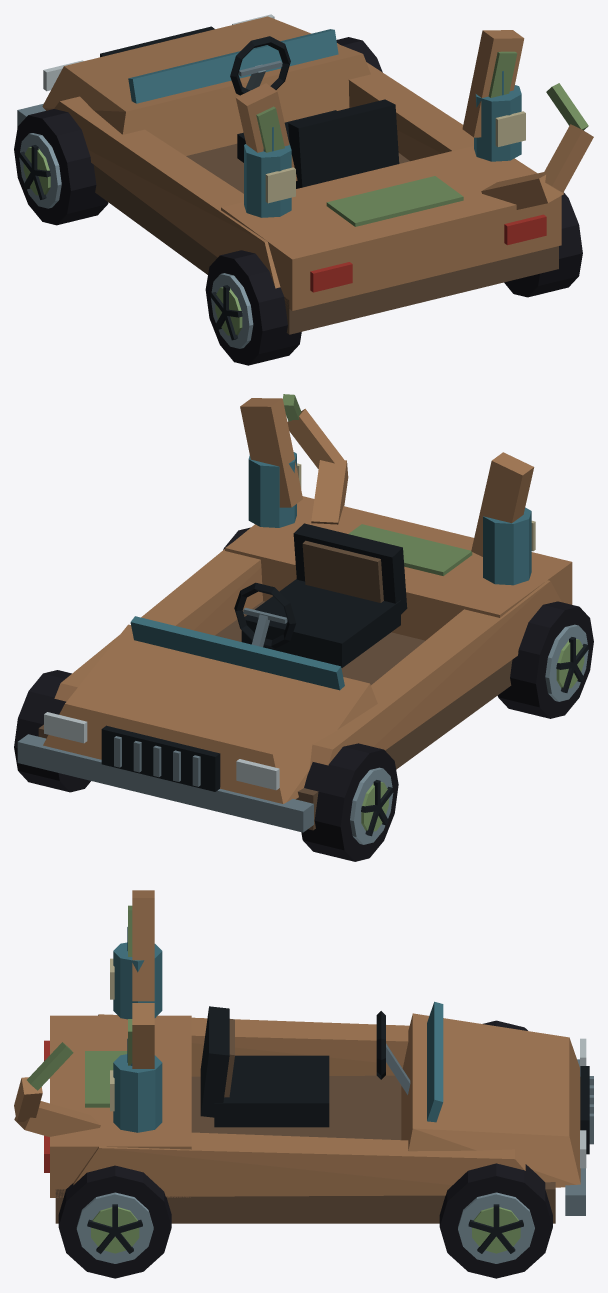
File: kart.glb
The picture shows the model from 3 angles, top to bottom: view 1: azimuth 30°, elevation 25°; view 2: azimuth 150°, elevation 25°; view 3: azimuth 270°, elevation 25°; orthographic projection. The views are drawn at different scales.
Parts seen in each view (by area): view 1: identity-sedan-sedan-road-car-body, identity-sedan-driver-cockpit, wheel-front-left, wheel-rear-left, identity-sedan-motif-bottles, identity-sedan-motif-ears, identity-sedan-motif-tail, wheel-rear-right, wheel-front-right; view 2: identity-sedan-sedan-road-car-body, identity-sedan-driver-cockpit, wheel-front-left, wheel-rear-left, identity-sedan-motif-ears, identity-sedan-motif-bottles, identity-sedan-motif-tail, wheel-front-right; view 3: identity-sedan-sedan-road-car-body, identity-sedan-driver-cockpit, wheel-front-right, wheel-rear-right, identity-sedan-motif-bottles, identity-sedan-motif-ears, identity-sedan-motif-tail.
Part boxes in pixels (x1,y1,x2,y2): identity-sedan-sedan-road-car-body: [17, 14, 561, 334]; identity-sedan-driver-cockpit: [230, 36, 399, 188]; wheel-front-left: [14, 109, 108, 225]; wheel-rear-left: [205, 250, 301, 365]; identity-sedan-motif-bottles: [244, 71, 525, 217]; identity-sedan-motif-ears: [236, 30, 524, 180]; identity-sedan-motif-tail: [481, 83, 593, 209]; wheel-rear-right: [504, 192, 582, 297]; wheel-front-right: [336, 37, 382, 72]; identity-sedan-sedan-road-car-body: [17, 496, 572, 832]; identity-sedan-driver-cockpit: [234, 523, 407, 667]; wheel-front-left: [301, 743, 398, 861]; wheel-rear-left: [497, 601, 593, 718]; identity-sedan-motif-ears: [240, 398, 534, 556]; identity-sedan-motif-bottles: [248, 452, 535, 585]; identity-sedan-motif-tail: [283, 394, 348, 524]; wheel-front-right: [14, 670, 90, 792]; identity-sedan-sedan-road-car-body: [44, 1001, 593, 1223]; identity-sedan-driver-cockpit: [200, 1006, 410, 1127]; wheel-front-right: [439, 1163, 552, 1278]; wheel-rear-right: [58, 1165, 171, 1278]; identity-sedan-motif-bottles: [110, 927, 162, 1132]; identity-sedan-motif-ears: [128, 890, 154, 1068]; identity-sedan-motif-tail: [14, 1042, 100, 1136].
Size of the model in its own units: 2.07 by 1.46 by 3.07.
